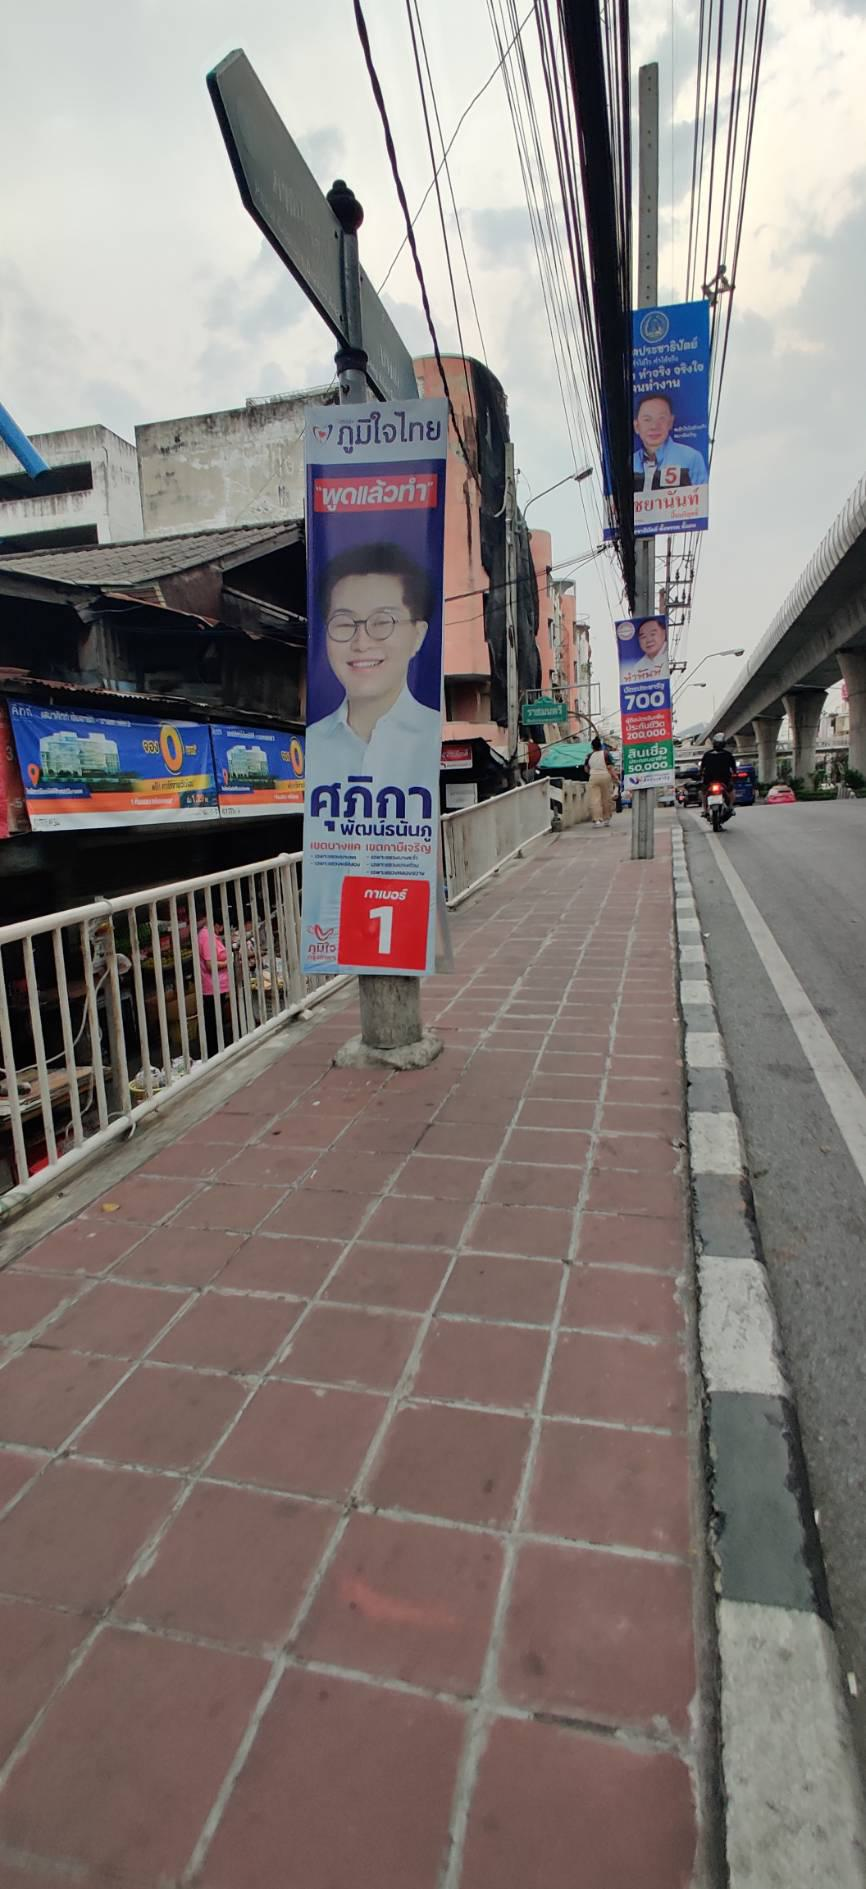Banner: (269, 405, 460, 998), (614, 283, 721, 537), (623, 604, 689, 822)
